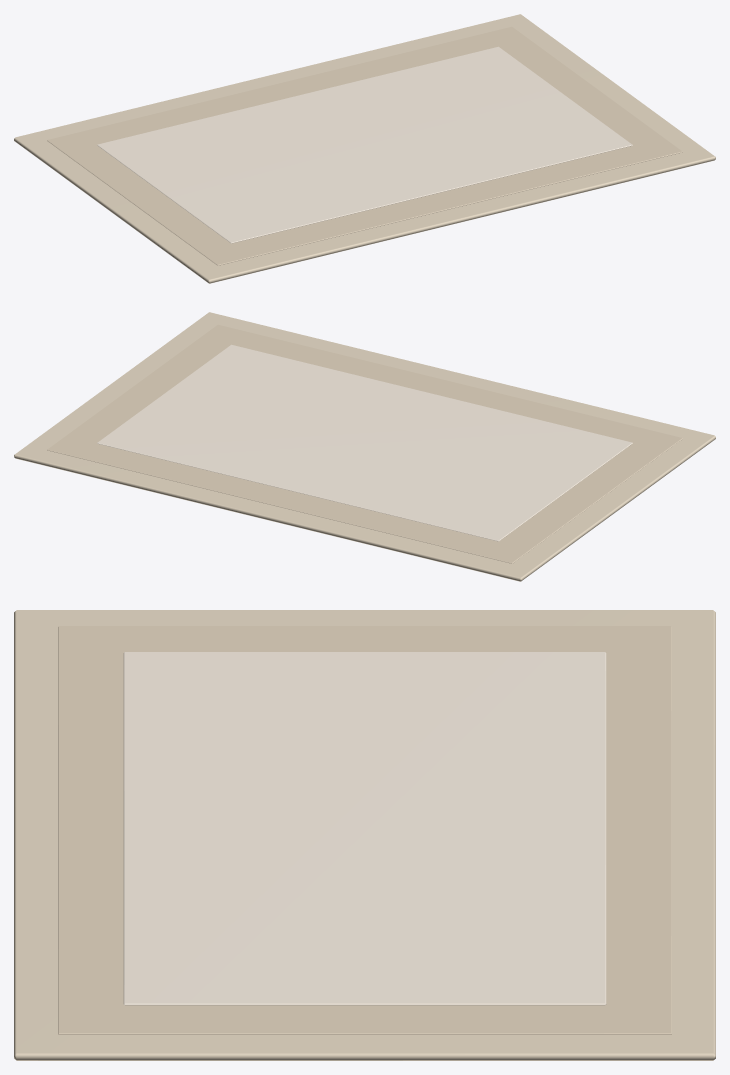
Rendered from rug_rect.glb.
The picture shows the model from 3 angles, top to bottom: view 1: azimuth 30°, elevation 25°; view 2: azimuth 150°, elevation 25°; view 3: azimuth 270°, elevation 25°; orthographic projection. The views are drawn at different scales.
Visible parts, largest first — view 1: rug_rect; view 2: rug_rect; view 3: rug_rect.
Boxes of the visible parts, <box> form: rug_rect: <box>14,14,715,283</box>; rug_rect: <box>14,312,715,581</box>; rug_rect: <box>14,610,715,1060</box>.
Size of the model in its own units: 2.4 by 0.03 by 1.6.
